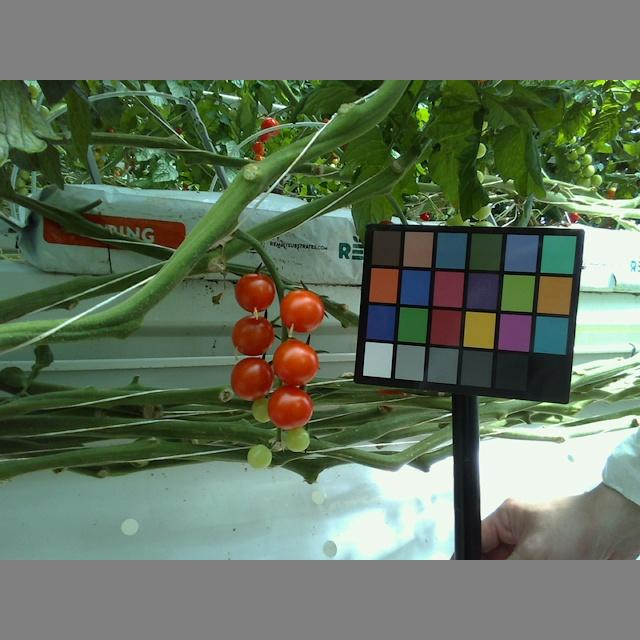green: (246, 442, 271, 469), (284, 424, 309, 450), (252, 396, 273, 422)
pink: (273, 340, 319, 386), (280, 289, 325, 333), (229, 357, 274, 401), (268, 388, 315, 430), (232, 314, 275, 355), (235, 273, 276, 311)
